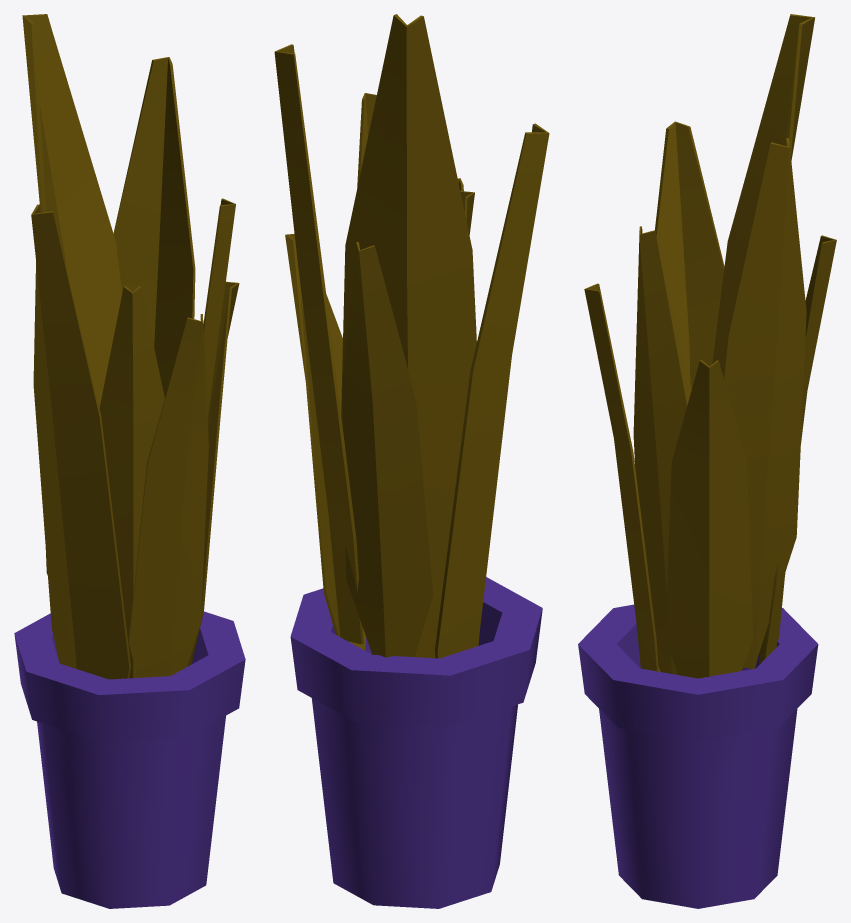
The model's file is plant1.fbx.
3 views of the same model, side by side, from view 1: azimuth 30°, elevation 25°; view 2: azimuth 150°, elevation 25°; view 3: azimuth 270°, elevation 25° (orthographic). The views are drawn at different scales.
Visible parts, largest first — view 1: plant1; view 2: plant1; view 3: plant1.
Boxes of the visible parts, left/top/right/bottom form: plant1: left=14, top=14, right=245, bottom=908; plant1: left=274, top=14, right=549, bottom=908; plant1: left=578, top=14, right=836, bottom=908.
Bounding box in the file's own units: 28.81 × 102 × 28.56.
